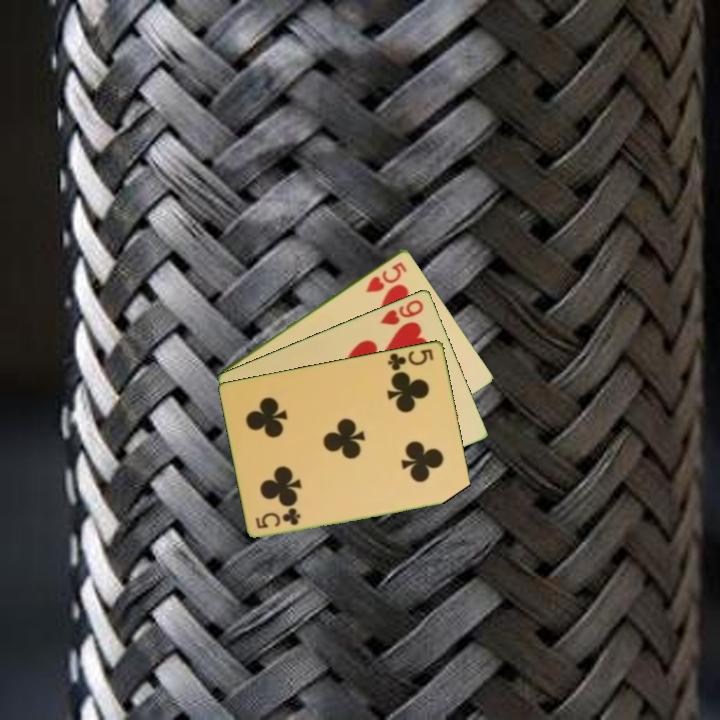5c: (384, 345, 437, 373), (252, 505, 304, 531)
5h: (362, 258, 410, 295)
9h: (376, 296, 427, 328)
